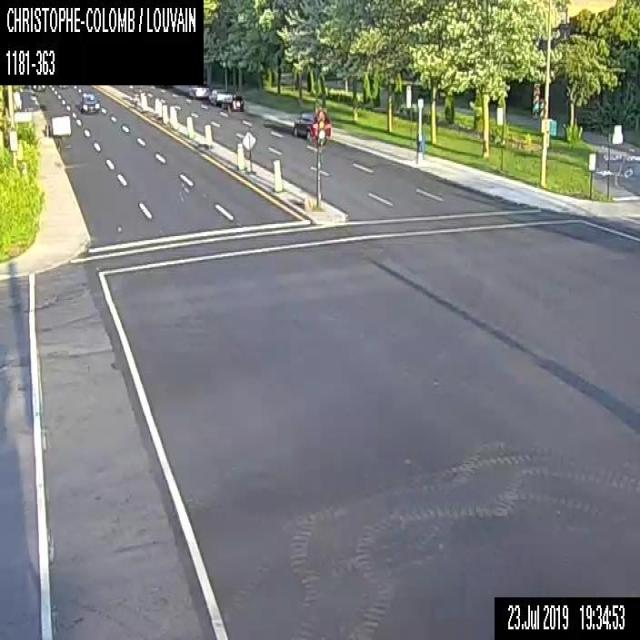construction: (272, 157, 282, 191), (236, 142, 246, 170), (204, 122, 211, 146), (186, 115, 192, 136), (168, 105, 174, 124), (171, 110, 177, 128), (162, 104, 168, 122), (154, 97, 159, 113), (139, 92, 144, 106), (157, 101, 161, 118), (142, 94, 146, 109)
vehicle: (291, 110, 330, 140), (221, 92, 243, 112), (80, 92, 99, 112), (188, 81, 210, 98), (208, 88, 228, 106)
